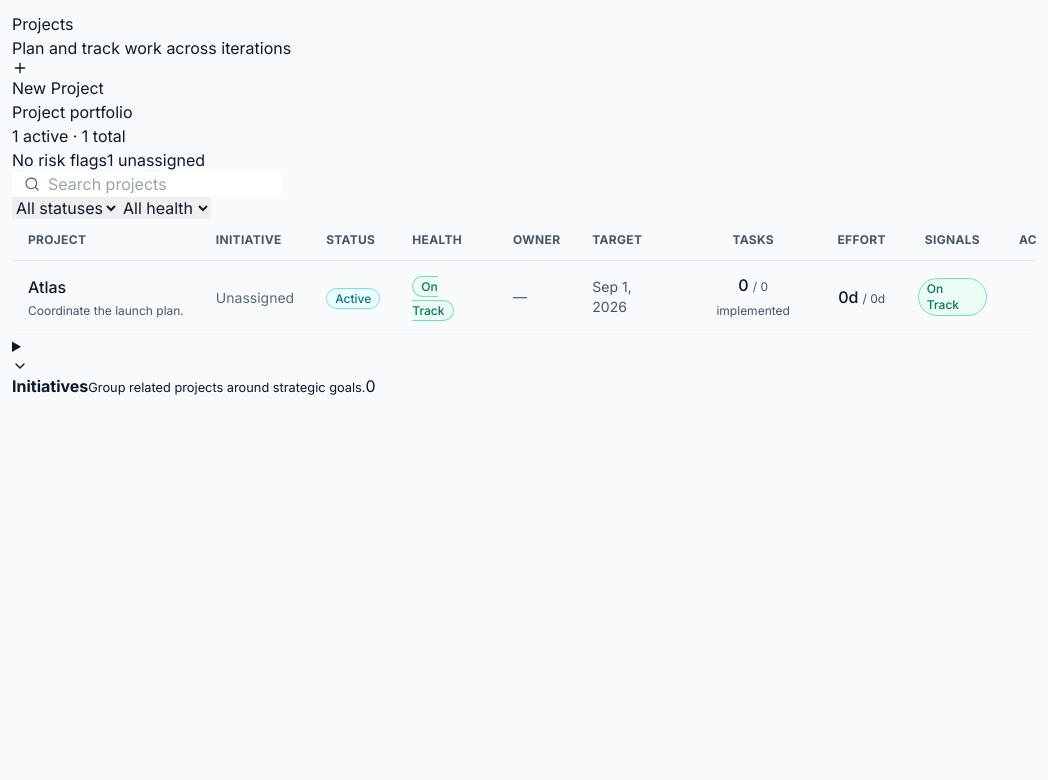
Test case: ProjectsPage › offers filter recovery instead of project creation when a view has no matches
Expected: the link "Atlas" is shown, x1=28 y1=277 x2=66 y2=297
Step 1. Type "missing" into the field labelled "Search projects" → {"x": 147, "y": 184}, box x1=12 y1=172 x2=282 y2=196
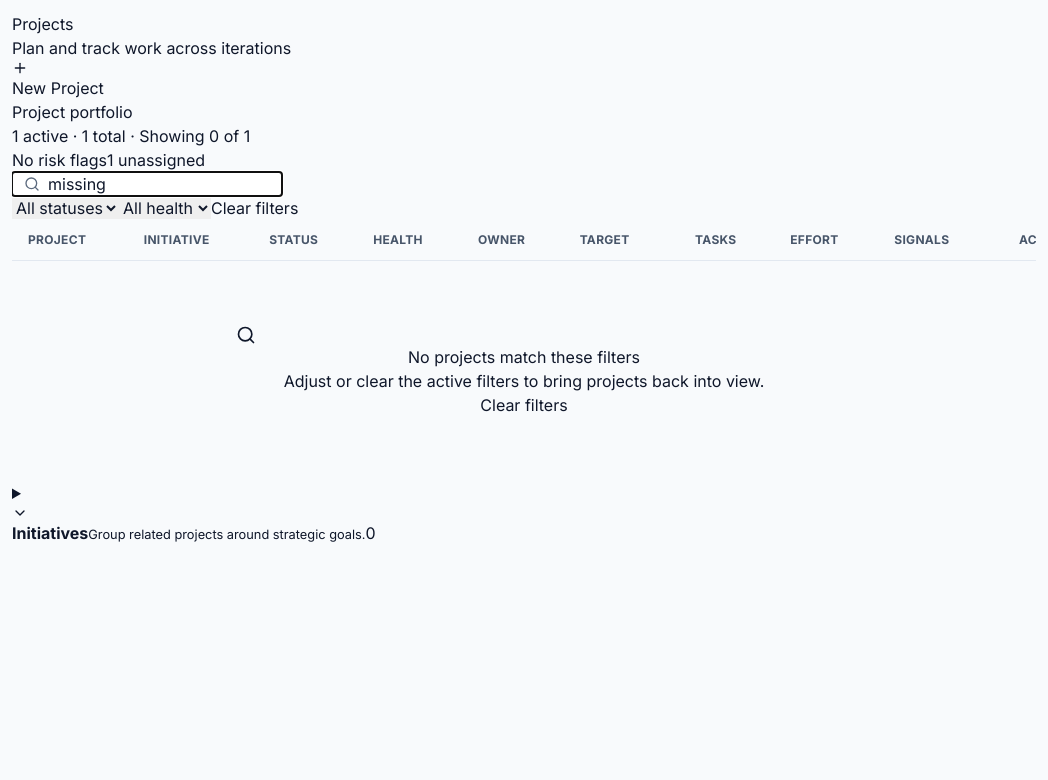
Now the heading "No projects match these filters" is shown, box x1=408 y1=347 x2=640 y2=367
Step 2. Click the button "Clear filters" below "No projects match these filters" → {"x": 524, "y": 405}, box x1=480 y1=393 x2=568 y2=417
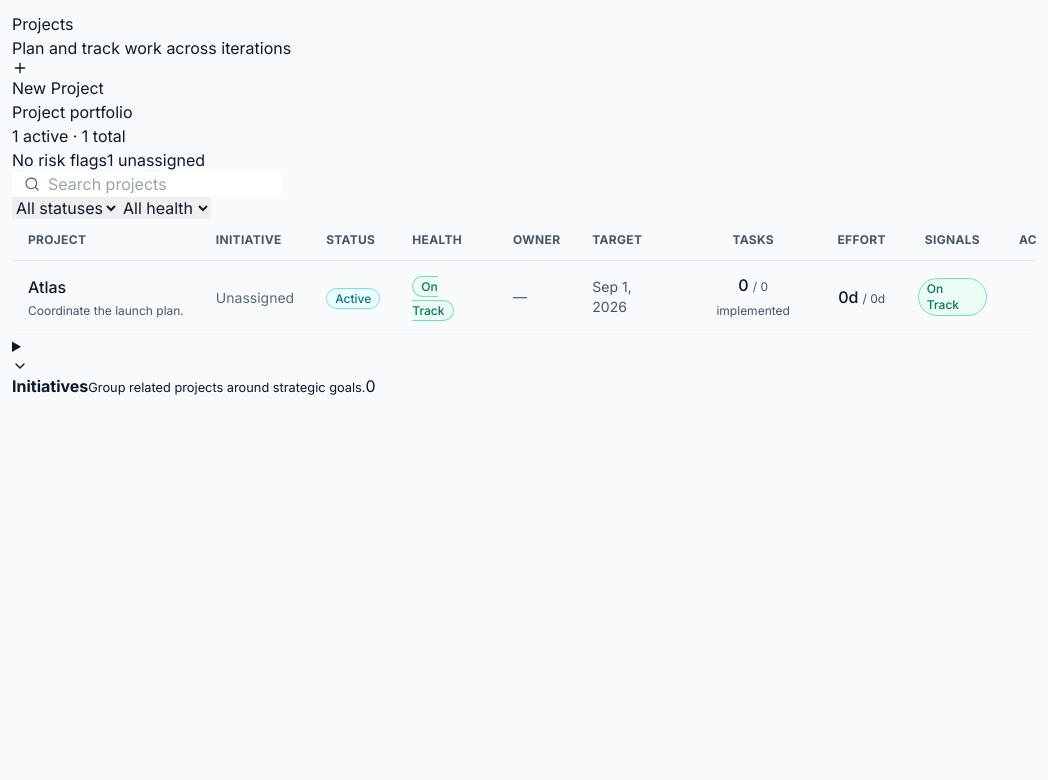
Now the link "Atlas" is shown, box x1=28 y1=277 x2=66 y2=297
Now the heading "No projects match these filters" is gone
